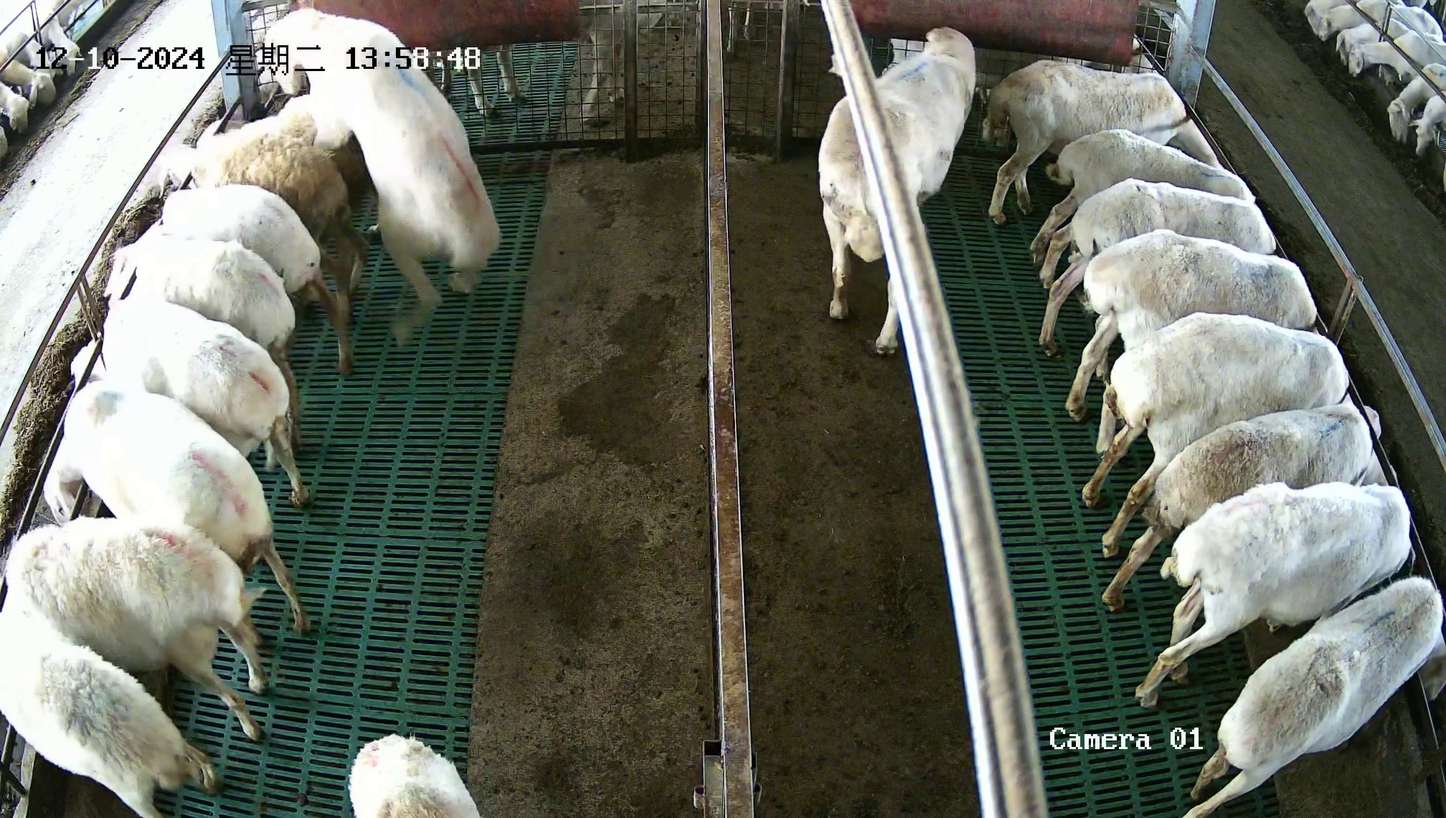Nmounting: (253, 5, 501, 340)
